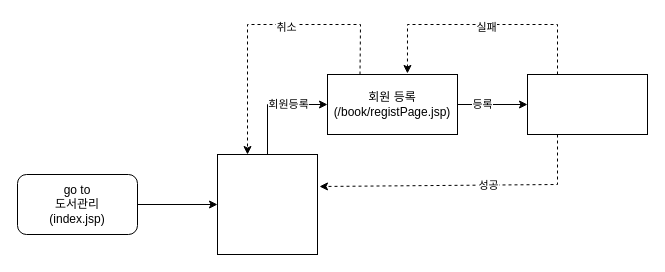
Image size: 665x272. Some labels were removed from this diagram. The centre of each missing label's shape, as x and y in pixels:
regist.jsp: [587,104]
도서 관리 (/book/main.jsp) 회원등록 회원목록: [267,204]
